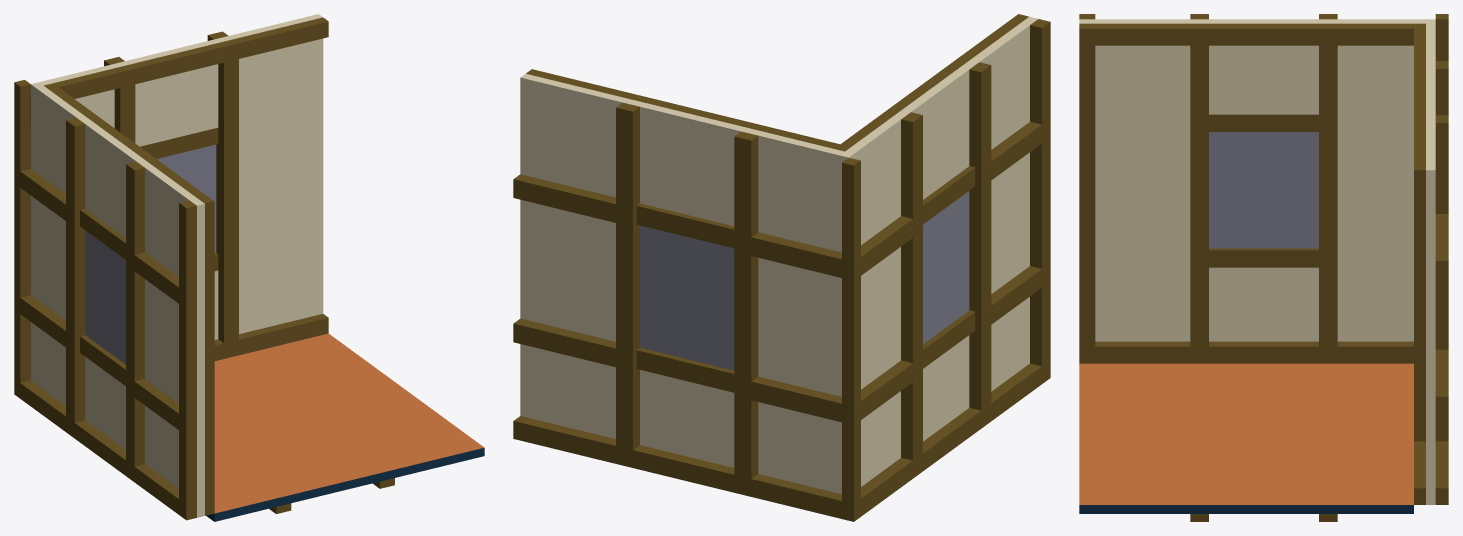
Rendered from CornerWindowsWF.fbx.
The picture shows the model from 3 angles, left to right: view 1: azimuth 30°, elevation 25°; view 2: azimuth 150°, elevation 25°; view 3: azimuth 270°, elevation 25°; orthographic projection. The views are drawn at different scales.
Visible parts, largest first — view 1: pCube115; view 2: pCube115; view 3: pCube115.
Boxes of the visible parts, bbox=[...] form: pCube115: bbox=[14, 14, 484, 521]; pCube115: bbox=[513, 14, 1050, 521]; pCube115: bbox=[1079, 14, 1448, 521].
Bounding box in the file's own units: 3 × 3.15 × 3.
